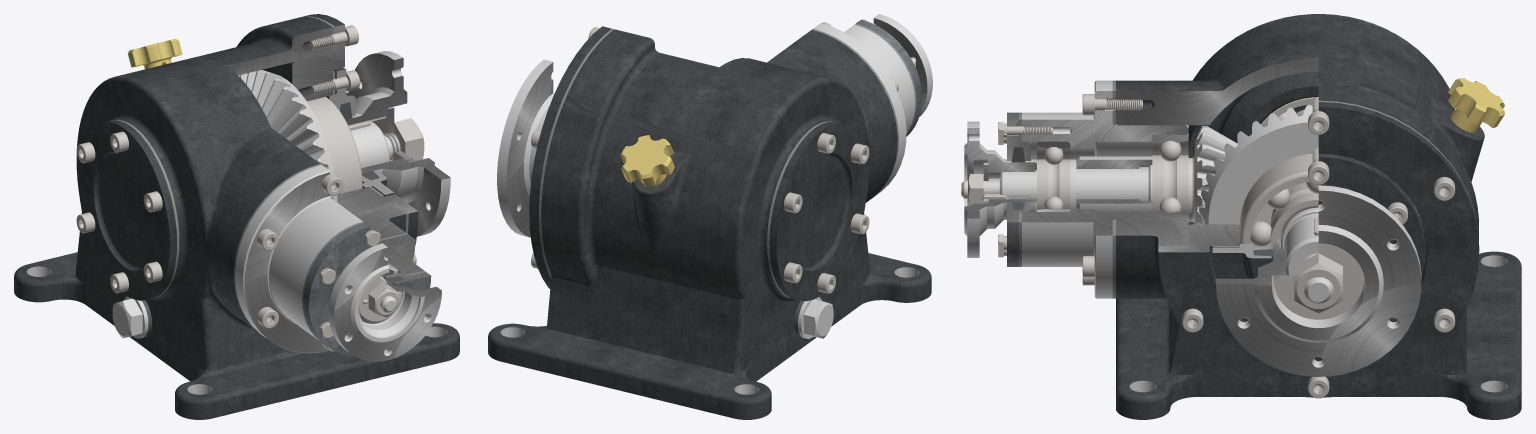
The model's file is gearbox_conical.glb.
The picture shows the model from 3 angles, left to right: view 1: azimuth 30°, elevation 25°; view 2: azimuth 150°, elevation 25°; view 3: azimuth 270°, elevation 25°; orthographic projection. The views are drawn at different scales.
Parts seen in each view (by area): view 1: Object_72, Object_92, Object_82, Object_78, Object_86, Object_79, Object_4, Object_76, Object_83, Object_44, Object_75, Object_5 (+13 smaller); view 2: Object_72, Object_92, Object_82, Object_78, Object_85, Object_75, Object_94, Object_77, Object_88, Object_4, Object_76, Object_73 (+1 smaller); view 3: Object_72, Object_85, Object_82, Object_86, Object_79, Object_78, Object_81, Object_2, Object_5, Object_91, Object_75, Object_80 (+15 smaller).
Part boxes in pixels (x1=…): Object_72: x1=14, y1=17, x2=459, y2=419; Object_92: x1=78, y1=120, x2=176, y2=300; Object_82: x1=245, y1=53, x2=441, y2=361; Object_78: x1=235, y1=165, x2=415, y2=353; Object_86: x1=228, y1=27, x2=450, y2=296; Object_79: x1=238, y1=70, x2=337, y2=202; Object_4: x1=303, y1=222, x2=431, y2=356; Object_76: x1=328, y1=243, x2=431, y2=355; Object_83: x1=292, y1=24, x2=417, y2=213; Object_44: x1=307, y1=97, x2=362, y2=193; Object_75: x1=352, y1=51, x2=450, y2=236; Object_5: x1=319, y1=107, x2=424, y2=331; Object_72: x1=488, y1=29, x2=931, y2=419; Object_92: x1=769, y1=121, x2=867, y2=301; Object_82: x1=506, y1=18, x2=927, y2=237; Object_78: x1=813, y1=23, x2=915, y2=195; Object_85: x1=529, y1=26, x2=611, y2=288; Object_75: x1=497, y1=59, x2=553, y2=237; Object_94: x1=620, y1=135, x2=674, y2=187; Object_77: x1=798, y1=297, x2=833, y2=338; Object_88: x1=539, y1=28, x2=898, y2=278; Object_4: x1=856, y1=19, x2=922, y2=136; Object_76: x1=874, y1=14, x2=932, y2=116; Object_73: x1=500, y1=57, x2=919, y2=394; Object_72: x1=1116, y1=14, x2=1521, y2=419; Object_85: x1=1158, y1=102, x2=1479, y2=397; Object_82: x1=1076, y1=159, x2=1421, y2=376; Object_86: x1=964, y1=58, x2=1318, y2=285; Object_79: x1=1199, y1=104, x2=1318, y2=246; Object_78: x1=1022, y1=80, x2=1188, y2=298; Object_81: x1=961, y1=126, x2=1237, y2=224; Object_2: x1=1022, y1=91, x2=1188, y2=235; Object_5: x1=968, y1=123, x2=1363, y2=319; Object_91: x1=1212, y1=153, x2=1424, y2=321; Object_75: x1=1237, y1=185, x2=1421, y2=367; Object_80: x1=1281, y1=207, x2=1333, y2=303.
Size of the model in its own units: 0.134 by 0.108 by 0.185.
Materials: 14 (9 with a texture image).
